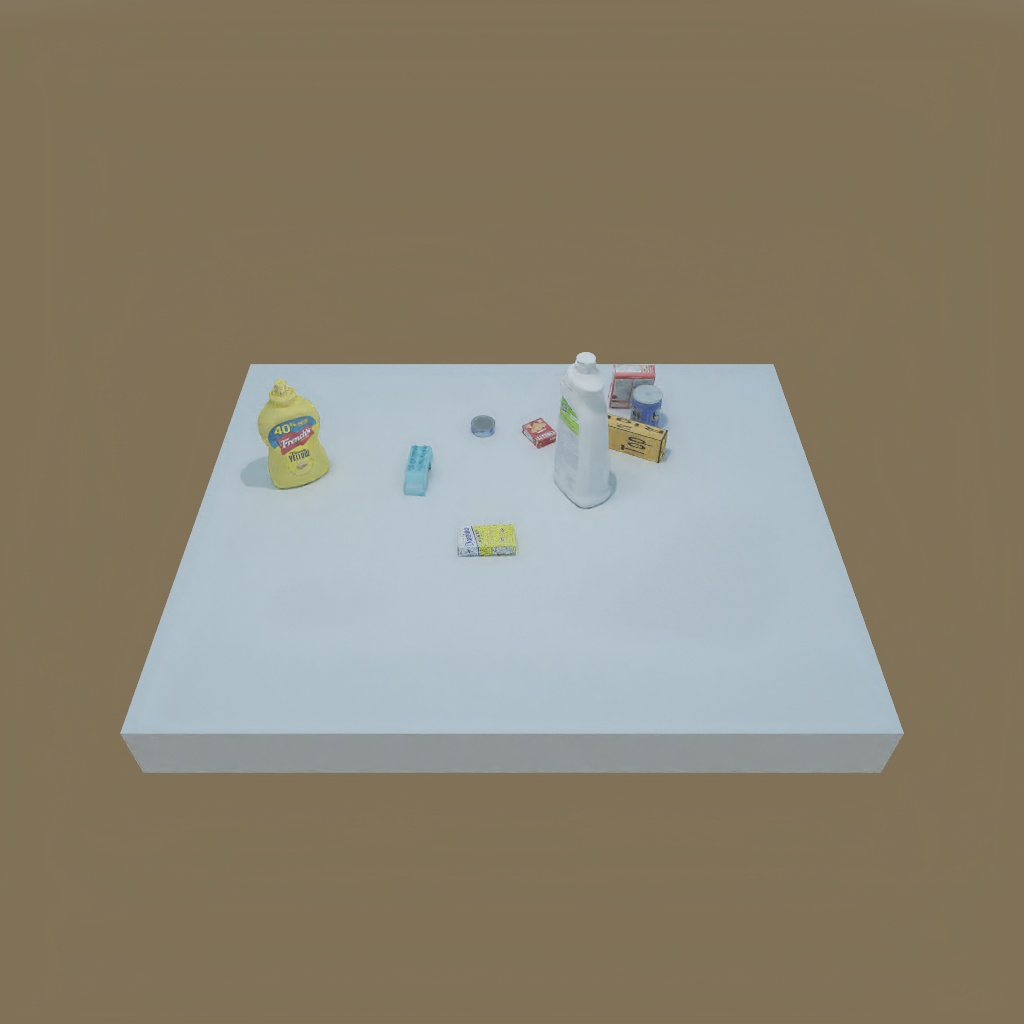jenga: (590, 410, 666, 462)
master_chef_can: (626, 380, 664, 431)
mustard_bottle: (257, 383, 332, 488)
